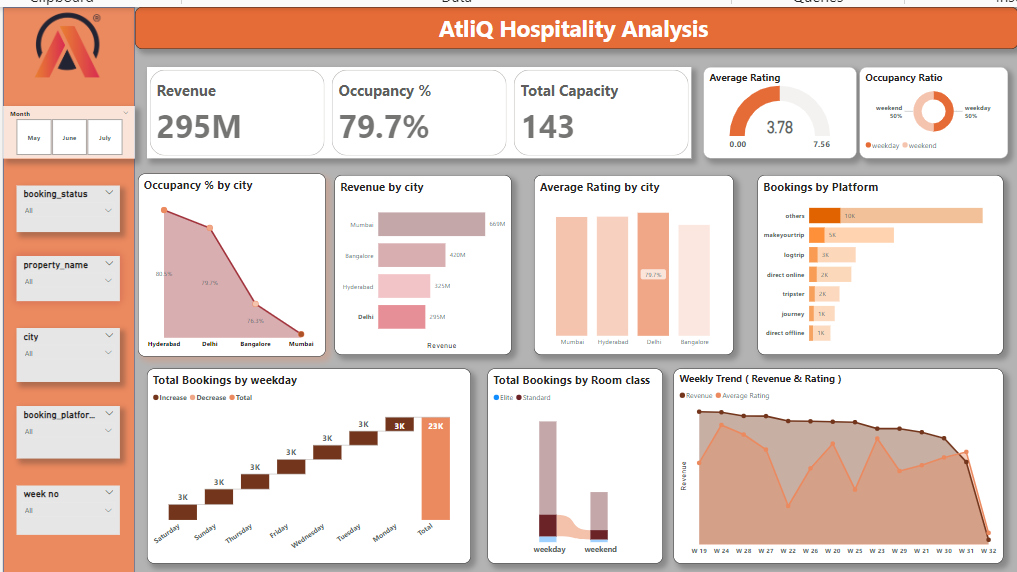

This screenshot's page, from the dashboard's own definition file:
{"tool":"powerbi","page":{"name":"Hospitality Report","canvas":[1920,1080],"ordinal":0},"visuals":[{"type":"shape","box":[0,0,249.5,1080],"z":0},{"type":"textbox","box":[249.5,0,1669.6,79.4],"z":1000},{"type":"slicer","fields":{"Values":["dim_hotels.property_name"]},"box":[25.5,470.6,195.6,85],"z":2000},{"type":"slicer","fields":{"Values":["dim_hotels.city"]},"box":[25.5,606.6,195.6,102],"z":3000},{"type":"slicer","fields":{"Values":["fact_bookings.booking_status"]},"box":[25.5,337.3,195.6,87.9],"z":4000},{"type":"slicer","fields":{"Values":["fact_bookings.booking_platform"]},"box":[25.5,754,195.6,99.2],"z":5000},{"type":"slicer","fields":{"Values":["dim_date.week no"]},"box":[25.5,904.3,195.6,93.5],"z":6000},{"type":"slicer","fields":{"Values":["dim_date.date.Variation.Date Hierarchy.Month"]},"box":[0,187.1,249.5,99.2],"z":7000},{"type":"image","box":[36.9,2.8,172.9,136.1],"z":8000},{"type":"gauge","fields":{"Y":["key measure.Average Rating"]},"box":[1323.8,113.4,289.1,172.9],"z":9000},{"type":"donutChart","title":"Occupancy Ratio","fields":{"Category":["dim_date.day_type"],"Y":["key measure.Occupancy %"]},"box":[1618.6,113.4,280.6,172.9],"z":10000},{"type":"cardVisual","fields":{"Data":["key measure.Revenue","key measure.Occupancy %","key measure.Total Capacity"]},"box":[272.1,113.4,1029,172.9],"z":11000},{"type":"stackedAreaChart","fields":{"Category":["dim_hotels.city"],"Y":["key measure.Occupancy %"]},"box":[255.1,314.6,354.3,345.8],"z":12000},{"type":"clusteredBarChart","fields":{"Y":["key measure.Revenue"],"Category":["dim_hotels.city"]},"box":[626.5,317.5,334.5,340.2],"z":13000},{"type":"lineStackedColumnComboChart","fields":{"Category":["dim_hotels.city"],"Y":["key measure.Average Rating"]},"box":[1003.5,317.5,377,340.2],"z":14000},{"type":"clusteredBarChart","title":"Bookings by Platform","fields":{"Category":["fact_bookings.booking_platform"],"Y":["key measure.Total Bookings"]},"box":[1425.8,317.5,464.9,340.2],"z":15000},{"type":"areaChart","title":"Weekly Trend ( Revenue & Rating )","fields":{"Category":["dim_date.week no"],"Y":["key measure.Revenue"],"Y2":["key measure.Average Rating"]},"box":[1267.1,683.2,623.6,368.5],"z":16000},{"type":"waterfallChart","fields":{"Category":["dim_date.weekday"],"Y":["key measure.Total Bookings"]},"box":[272.1,683.2,612.3,368.5],"z":17000},{"type":"ribbonChart","title":"Total Bookings by Room class","fields":{"Series":["dim_rooms.room_class"],"Category":["dim_date.day_type"],"Y":["key measure.Total Bookings"]},"box":[915.6,683.2,331.7,368.5],"z":18000}]}

Visuals, with their boxes in screenshot pixels (x1, y1, x2, y2):
shape: 13,8,144,571
textbox: 144,8,1016,49
slicer - dim_hotels.property_name: 27,254,129,298
slicer - dim_hotels.city: 27,325,129,378
slicer - fact_bookings.booking_status: 27,184,129,230
slicer - fact_bookings.booking_platform: 27,402,129,454
slicer - dim_date.week no: 27,480,129,529
slicer - dim_date.date.Variation.Date Hierarchy.Month: 13,106,144,158
image: 33,9,123,81
gauge - key measure.Average Rating: 705,67,856,158
"Occupancy Ratio" donutChart: 859,67,1005,158
cardVisual - key measure.Revenue x key measure.Occupancy %: 155,67,693,158
stackedAreaChart - dim_hotels.city x key measure.Occupancy %: 146,172,332,353
clusteredBarChart - key measure.Revenue x dim_hotels.city: 340,174,515,352
lineStackedColumnComboChart - dim_hotels.city x key measure.Average Rating: 537,174,734,352
"Bookings by Platform" clusteredBarChart: 758,174,1001,352
"Weekly Trend ( Revenue & Rating )" areaChart: 675,365,1001,557
waterfallChart - dim_date.weekday x key measure.Total Bookings: 155,365,475,557
"Total Bookings by Room class" ribbonChart: 492,365,665,557
